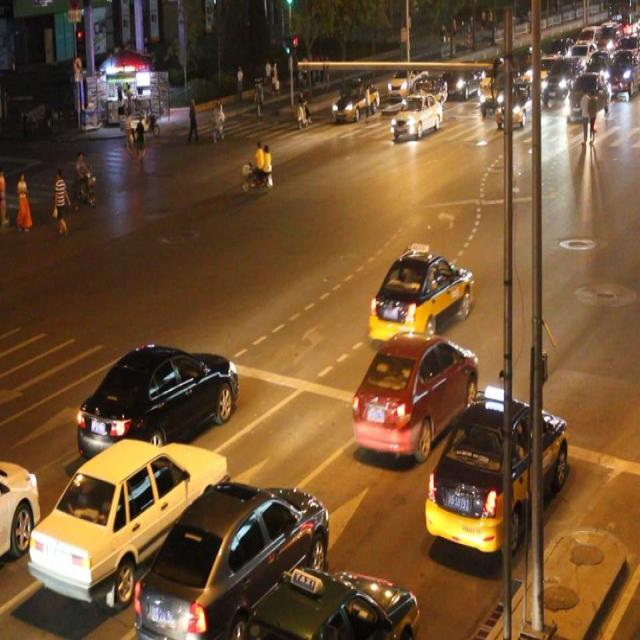car: (28, 433, 229, 609), (134, 475, 330, 640), (421, 392, 570, 556), (76, 340, 235, 464), (350, 328, 479, 461), (244, 564, 421, 640), (367, 248, 473, 344), (1, 456, 42, 564), (388, 92, 442, 141)
